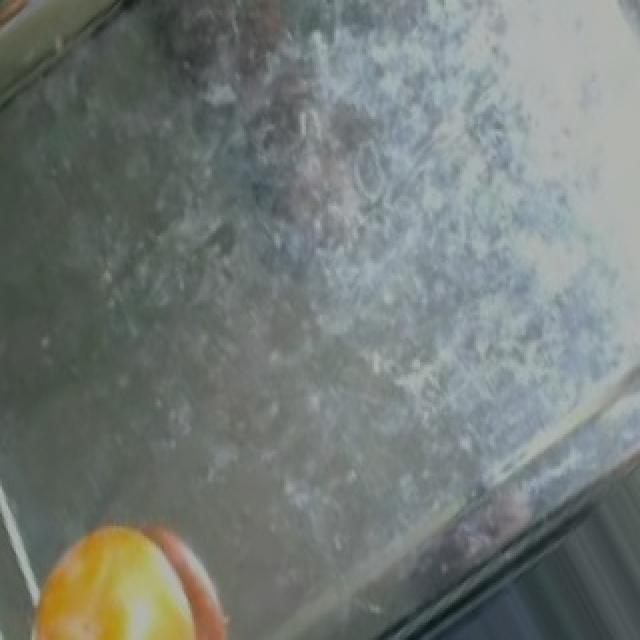Fruit: (10, 503, 204, 640), (0, 0, 176, 69)
